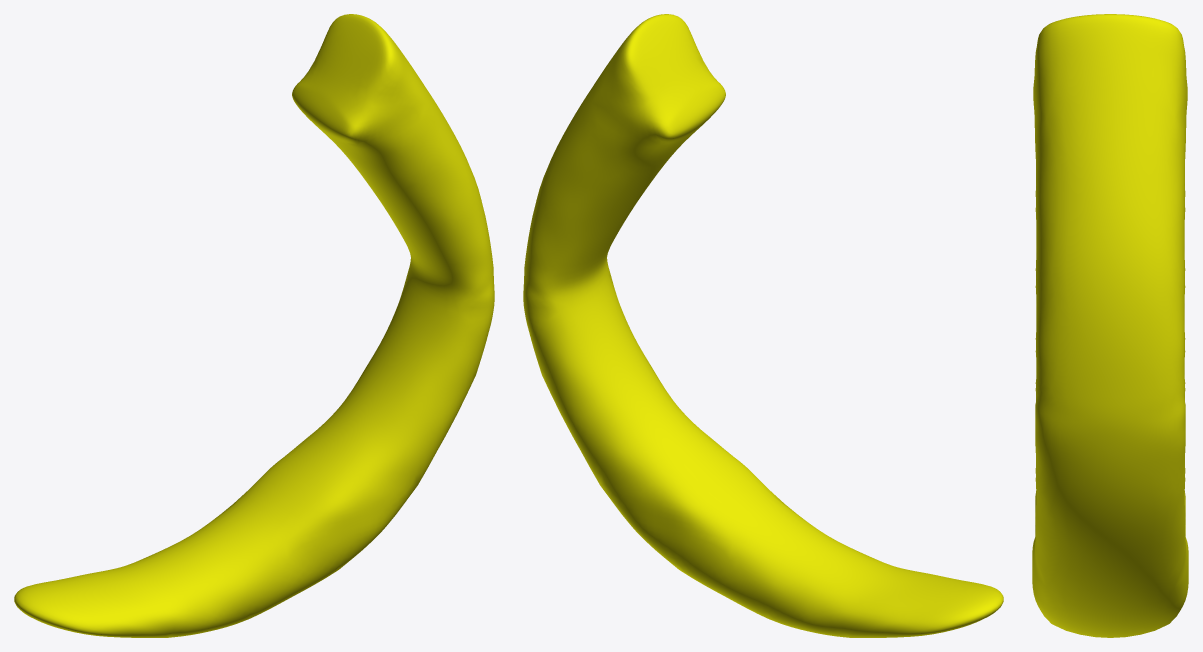
3 renders of one model, left to right at view 1: azimuth 30°, elevation 25°; view 2: azimuth 150°, elevation 25°; view 3: azimuth 270°, elevation 25°, orthographic. The views are drawn at different scales.
Parts seen in each view (by area): view 1: char_1; view 2: char_1; view 3: char_1.
Part boxes in pixels (x1,y1,x2,y2): char_1: (14, 14, 494, 637); char_1: (523, 14, 1003, 637); char_1: (1032, 14, 1188, 637).
Bounding box in the file's own units: 5.9 × 6.85 × 1.4.
